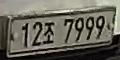1: (20, 21, 31, 49)
2: (31, 20, 43, 47)
7: (63, 17, 75, 44)
9: (95, 14, 107, 40), (75, 17, 85, 43), (85, 15, 95, 40)
조: (43, 20, 56, 46)
